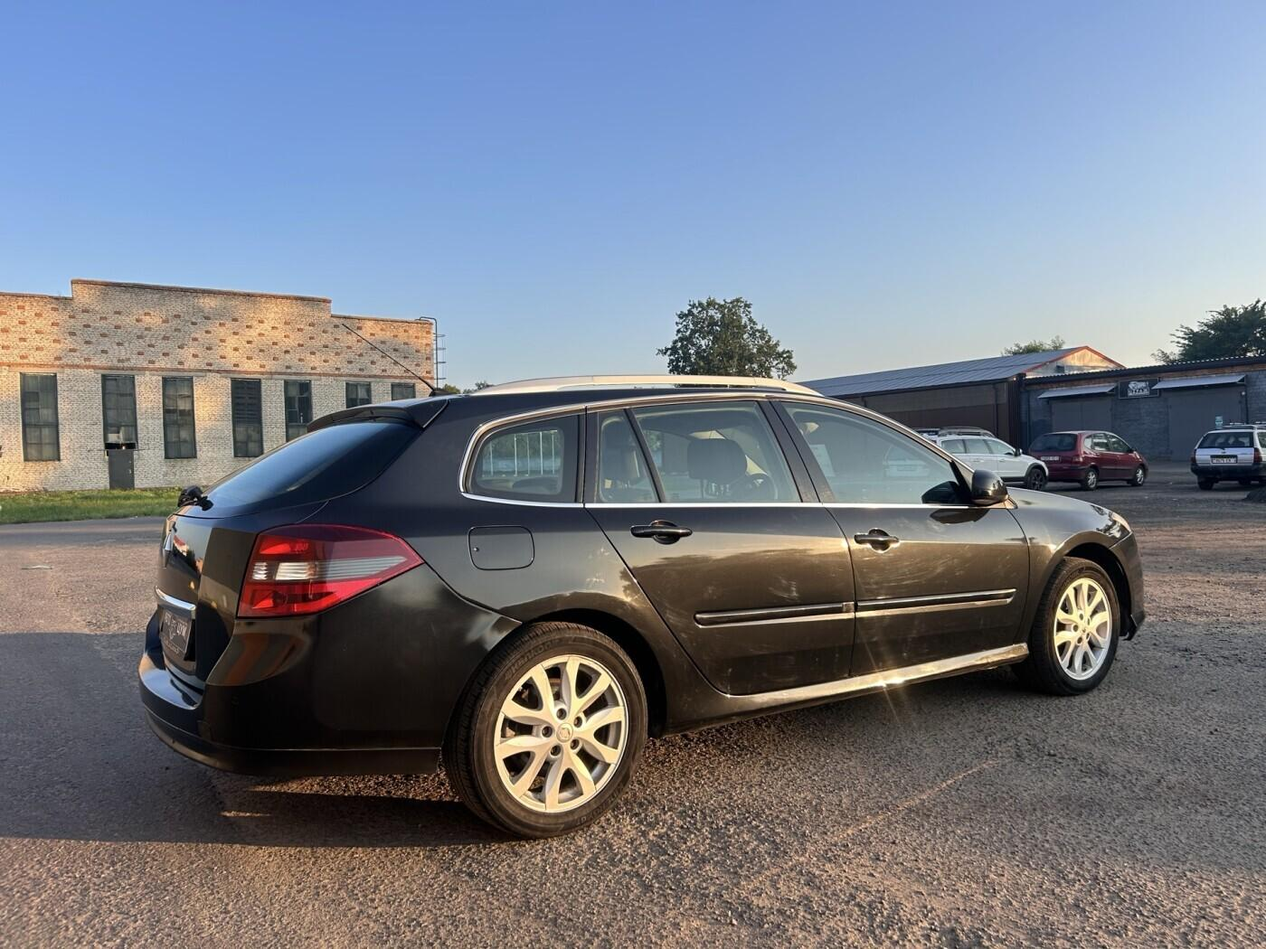Laguna_2007-2011: (137, 376, 1146, 838)
